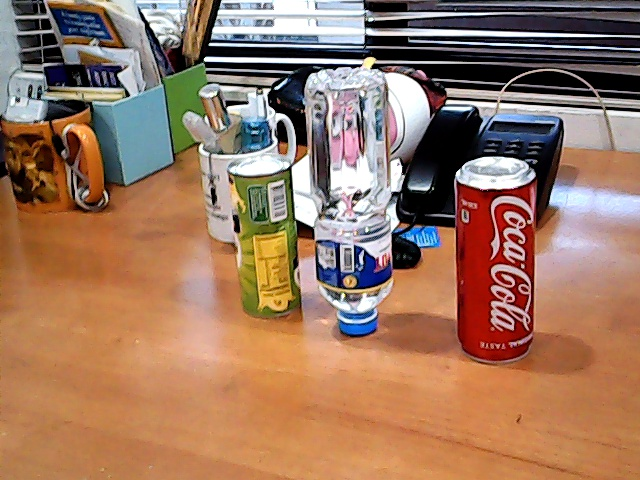Cola: (438, 139, 554, 388)
Pine Juice: (216, 146, 309, 326)
Summit Water: (307, 57, 401, 344)
